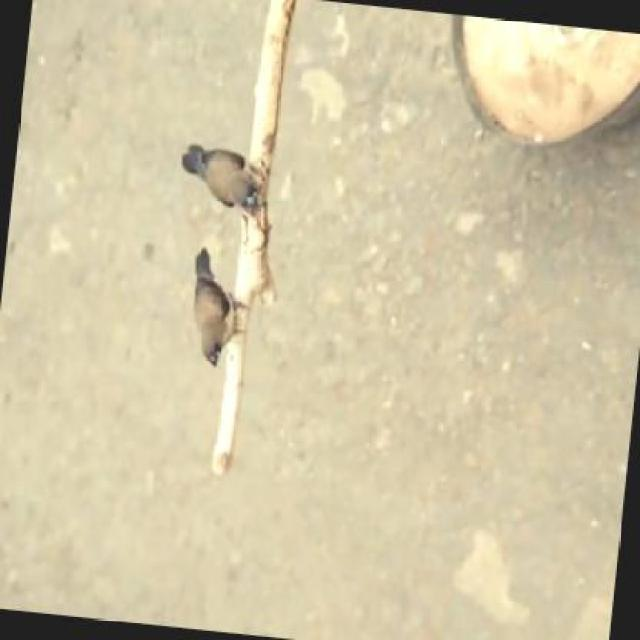Bird: (174, 240, 271, 383), (165, 130, 293, 231)
